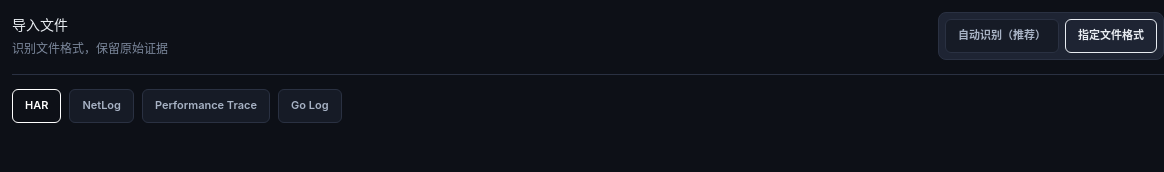
Test case: ParserModeSelect › returns to automatic recognition and collapses the manual formats
Expected: the button "HAR" is shown, [12,89,61,123]
Click the button "自动识别（推荐）".
click(1002, 36)  # box [945,19,1059,53]
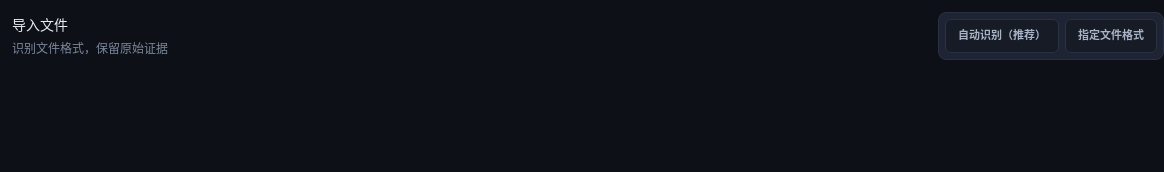
Now the button "HAR" is gone
